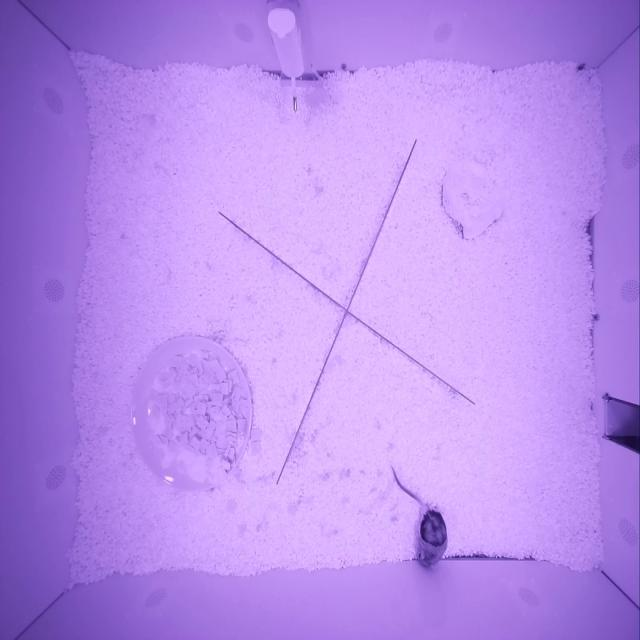adult_back: (412, 502, 448, 571)
